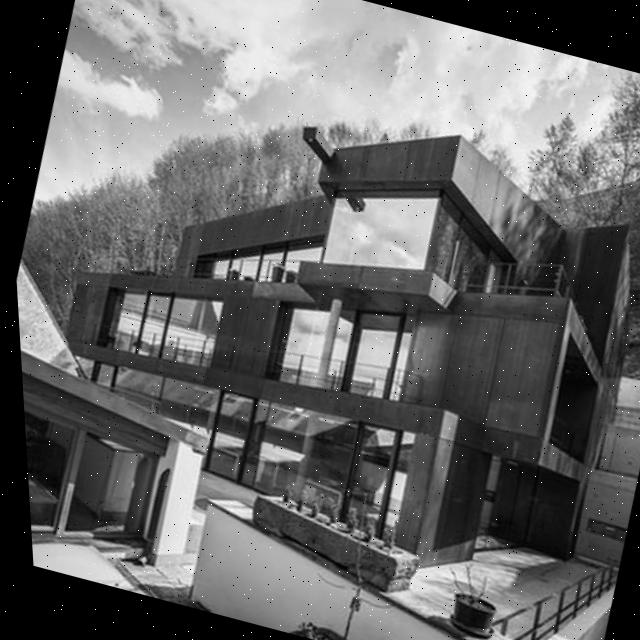building: (18, 38, 640, 606)
